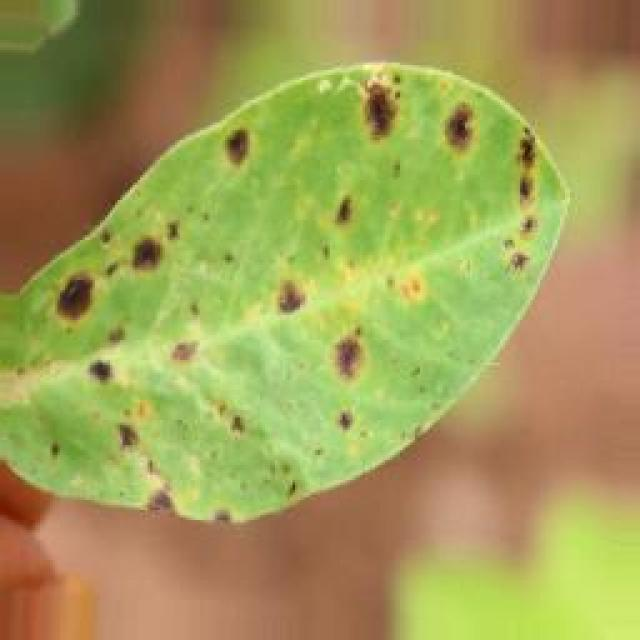Yellowish: (6, 44, 552, 565)
